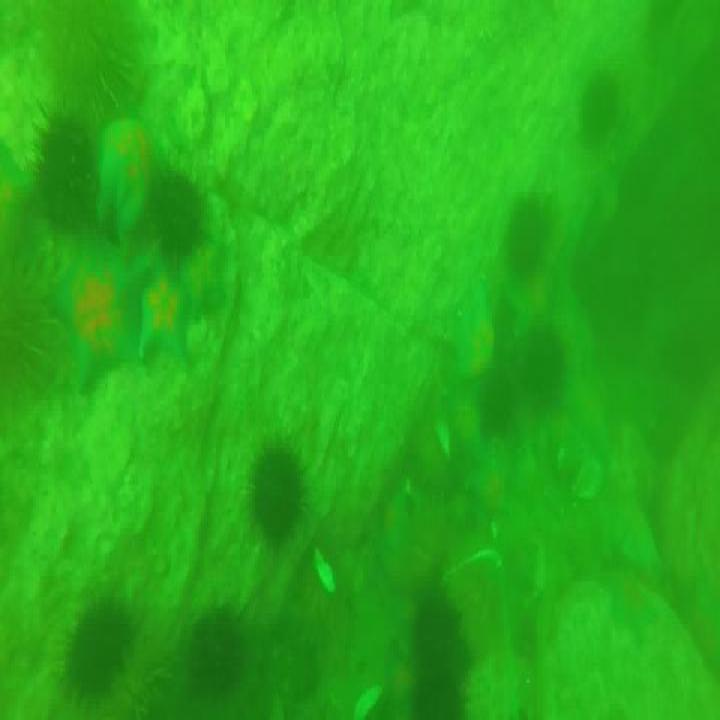echinus: (28, 108, 100, 240), (408, 594, 469, 720), (66, 603, 140, 702), (144, 174, 206, 267), (188, 610, 248, 702), (250, 452, 307, 546), (503, 190, 555, 281), (521, 322, 567, 400), (585, 71, 627, 153), (477, 364, 510, 432)
scallop: (570, 457, 605, 501)
starfish: (54, 242, 143, 389), (137, 268, 196, 382)
